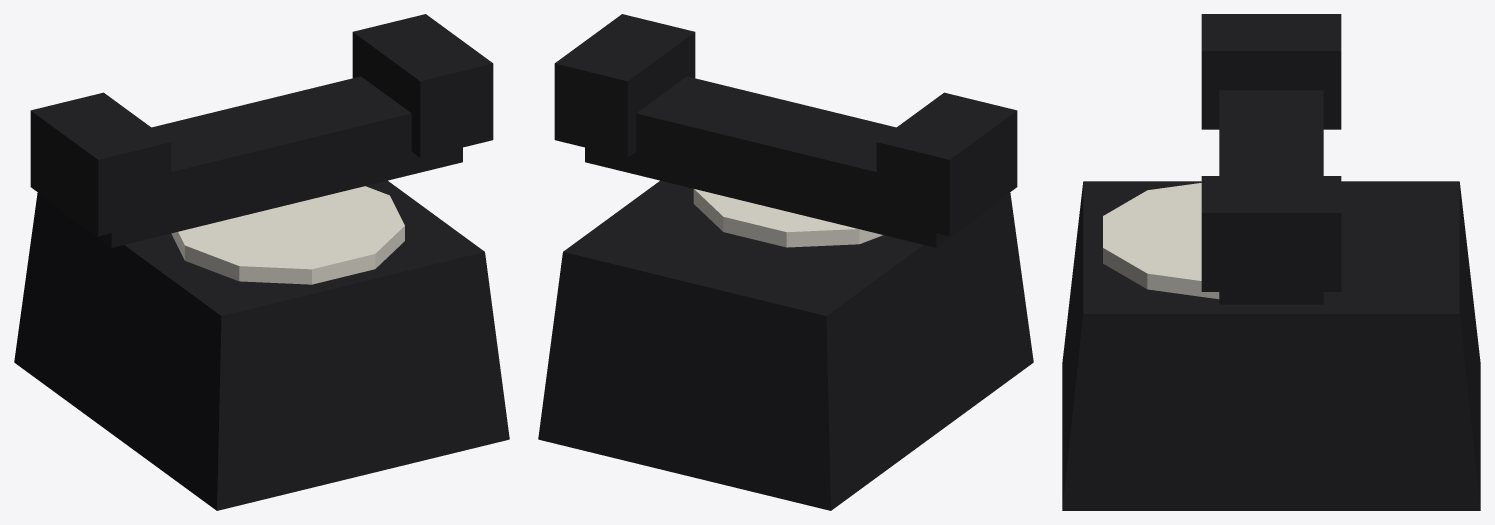
Rendered from GD_RotaryPhone_01.glb.
3 views of the same model, side by side, from view 1: azimuth 30°, elevation 25°; view 2: azimuth 150°, elevation 25°; view 3: azimuth 270°, elevation 25° (orthographic). The views are drawn at different scales.
Visible parts, largest first — view 1: GD_RotaryPhone_01; view 2: GD_RotaryPhone_01; view 3: GD_RotaryPhone_01.
Part boxes in pixels (x1,y1,x2,y2): GD_RotaryPhone_01: (14, 14, 509, 510); GD_RotaryPhone_01: (538, 14, 1033, 510); GD_RotaryPhone_01: (1062, 14, 1480, 510).
Bounding box in the file's own units: 0.27 × 0.205 × 0.24.
1 material, 1 textured.
